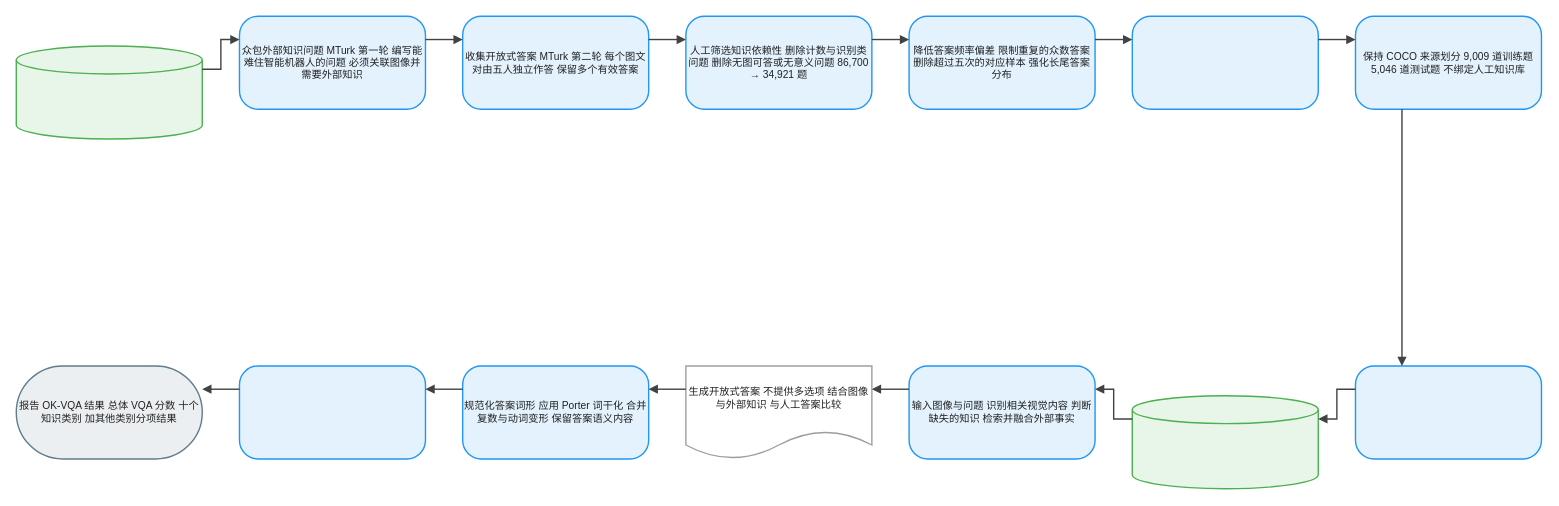
Some shapes in this 1559 by 506 pixel diagram are drawn without their labels. Here are the shapes that lost their labels. From the top down, the box of each, then its label:
(1131, 15, 1319, 110): 答案存在一致？ 删除零一致项
(15, 45, 203, 139): 抽取自然场景 COCO 图像 使用原始训练与验证划分 约 8 万与 4 万张图像 保留视觉复杂场景
(238, 365, 426, 459): 应用标准 VQA 评分 五份答案各重复计算两次 对齐十标注答案惯例 按人工一致度给分
(1354, 365, 1542, 459): 标注知识类别 每题由五人分类 十个预定义类别 取相对多数否则归为其他
(1131, 395, 1319, 489): 发布 OK-VQA 14,055 题 · 14,031 张图像 每题五份答案 开放式外部知识视觉问答
